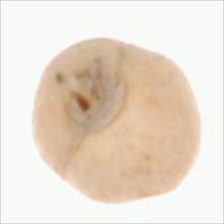L3: (65, 65, 124, 135)
L4: (32, 38, 202, 203)
